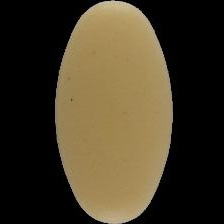63187-654: (0, 0, 224, 224)
